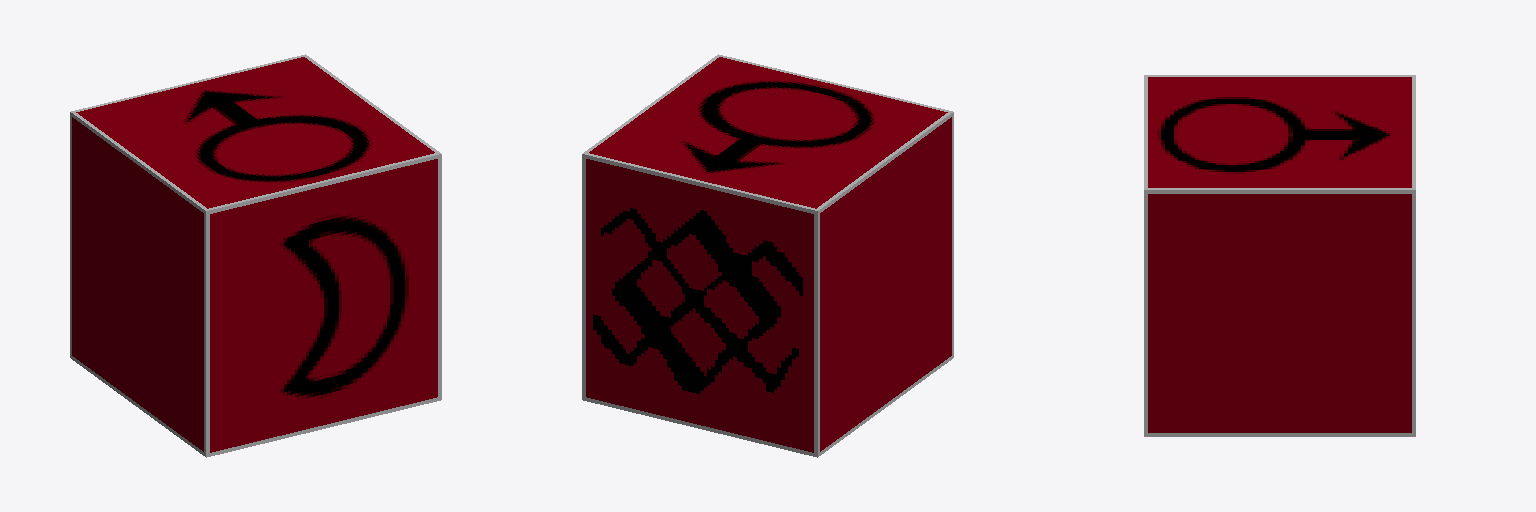
The picture shows the model from 3 angles: view 1: azimuth 30°, elevation 25°; view 2: azimuth 150°, elevation 25°; view 3: azimuth 270°, elevation 25°; orthographic projection.
Visible parts, largest first — view 1: pCube1; view 2: pCube1; view 3: pCube1.
Boxes of the visible parts, x1,y1,x2,y2 form: pCube1: [70, 54, 441, 457]; pCube1: [582, 54, 953, 457]; pCube1: [1144, 75, 1415, 436].
Size of the model in its own units: 2 by 2 by 2.
Materials: 1 (1 with a texture image).